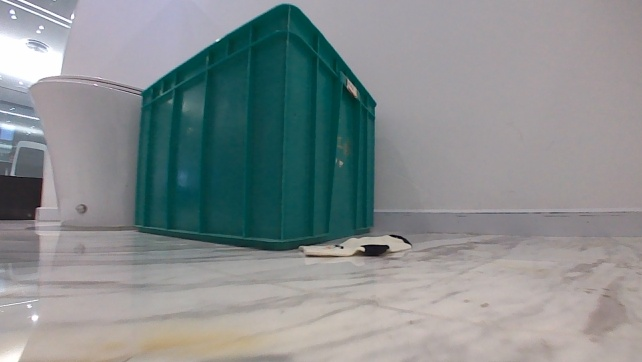socks: (293, 230, 413, 260)
toilet: (23, 72, 142, 229)
